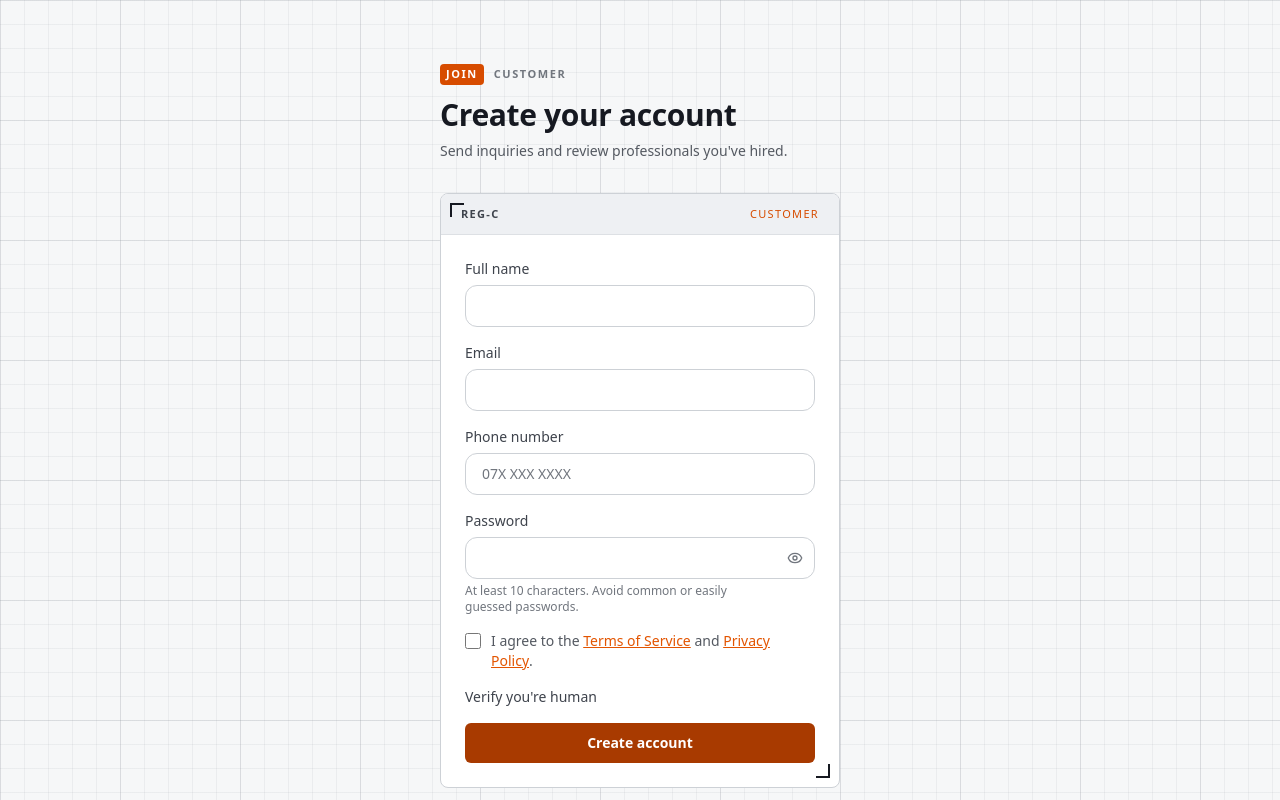
CustomerRegisterForm › blocks submit until the challenge is solved when a site key is set
The width and height of the screenshot is (1280, 800).
Type "Kasun Silva" into the field labelled "Full name" at (640, 306), box [465,285,815,327]
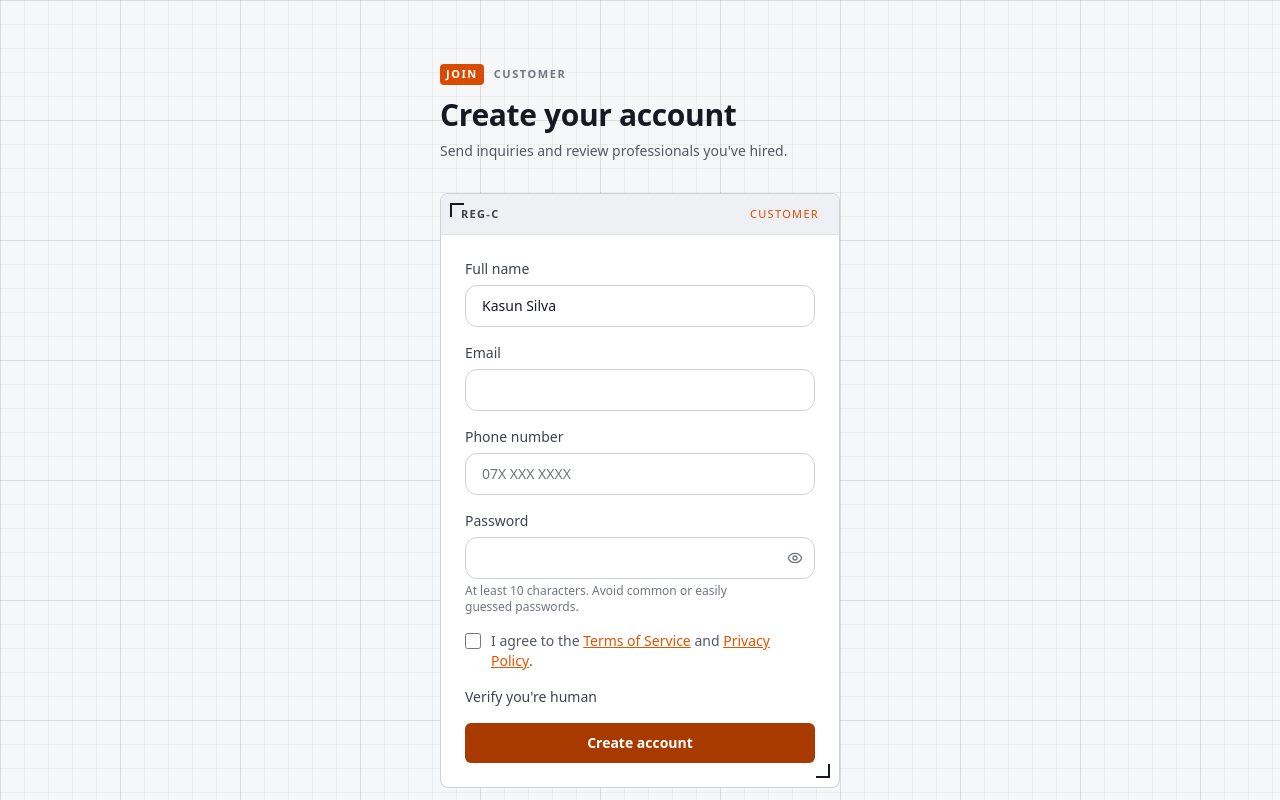
Type "kasun@example.com" into the field labelled "Email" at (640, 390), box [465,369,815,411]
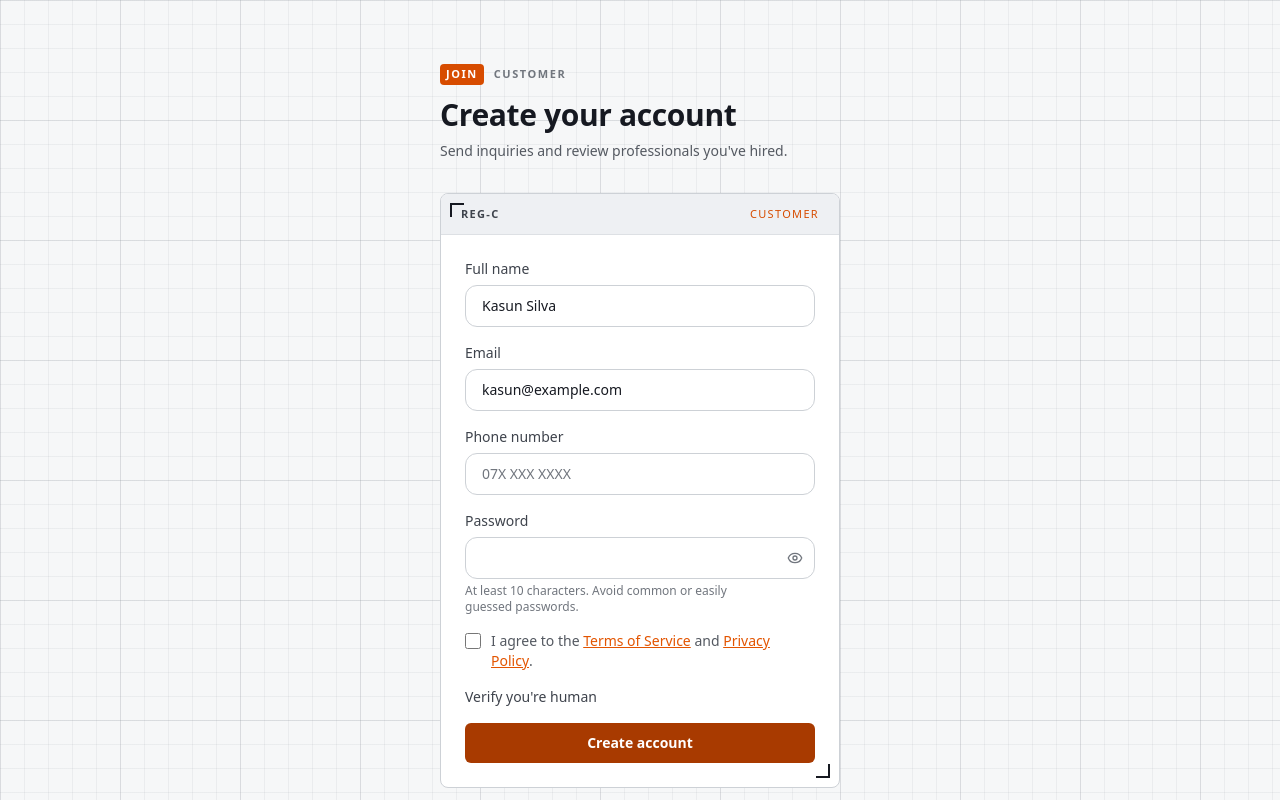
Type "0771234567" into the field labelled "Phone number" at (640, 474), box [465,453,815,495]
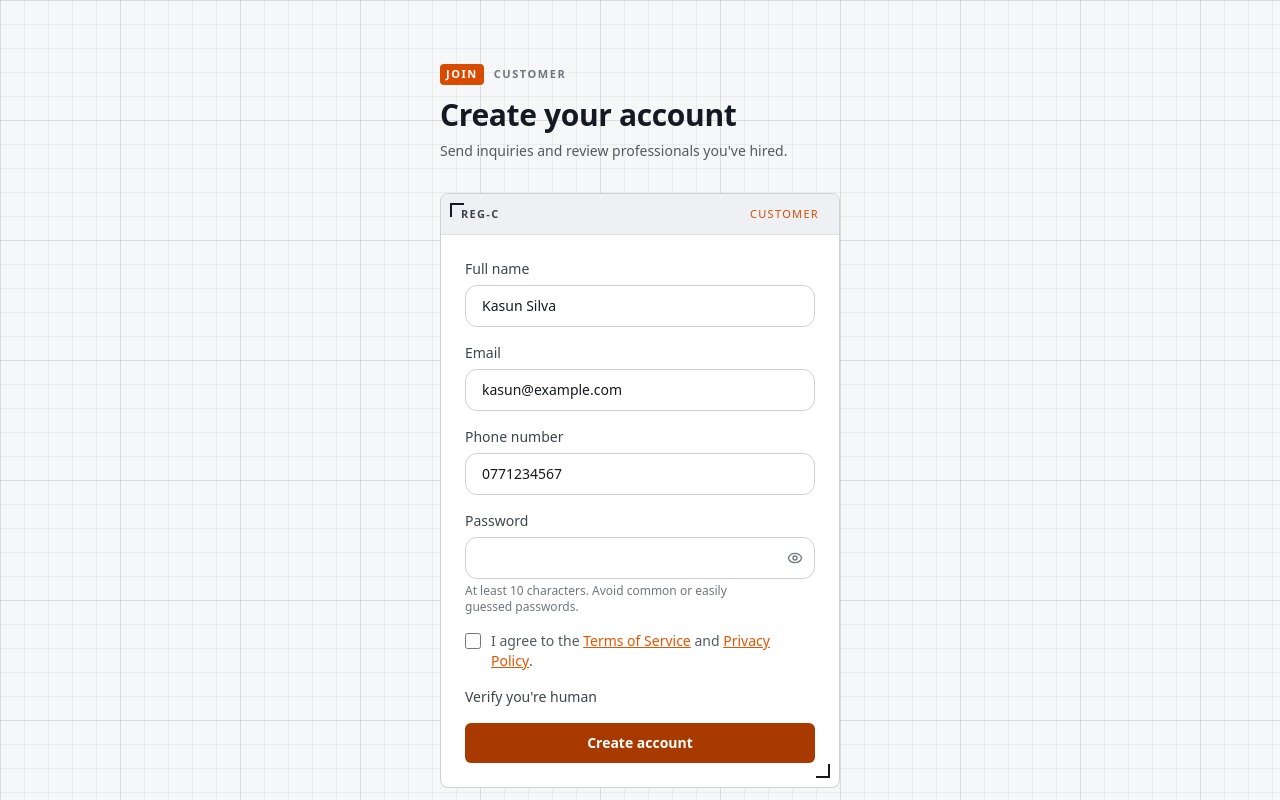
Type "password123" into the password field labelled "Password" at (640, 558), box [465,537,815,579]
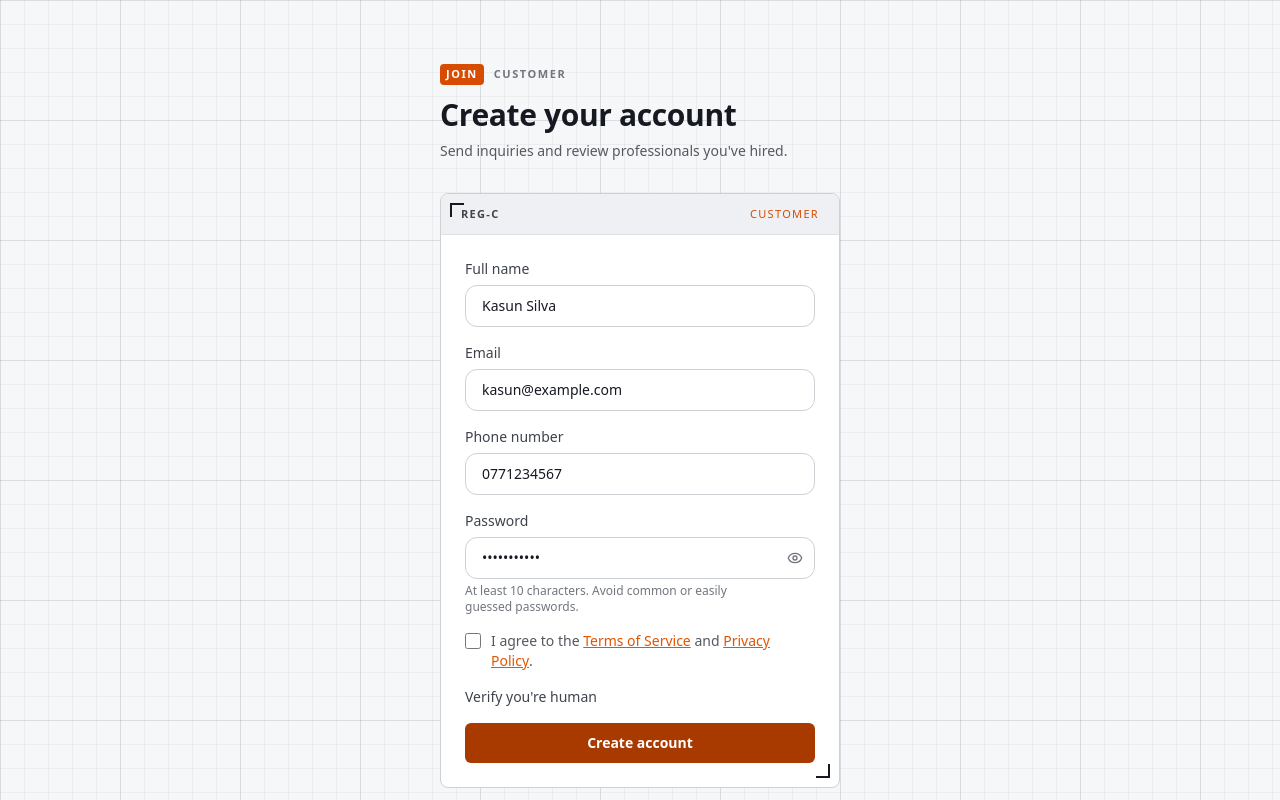
Click the checkbox at (473, 641), box [465,633,481,649]
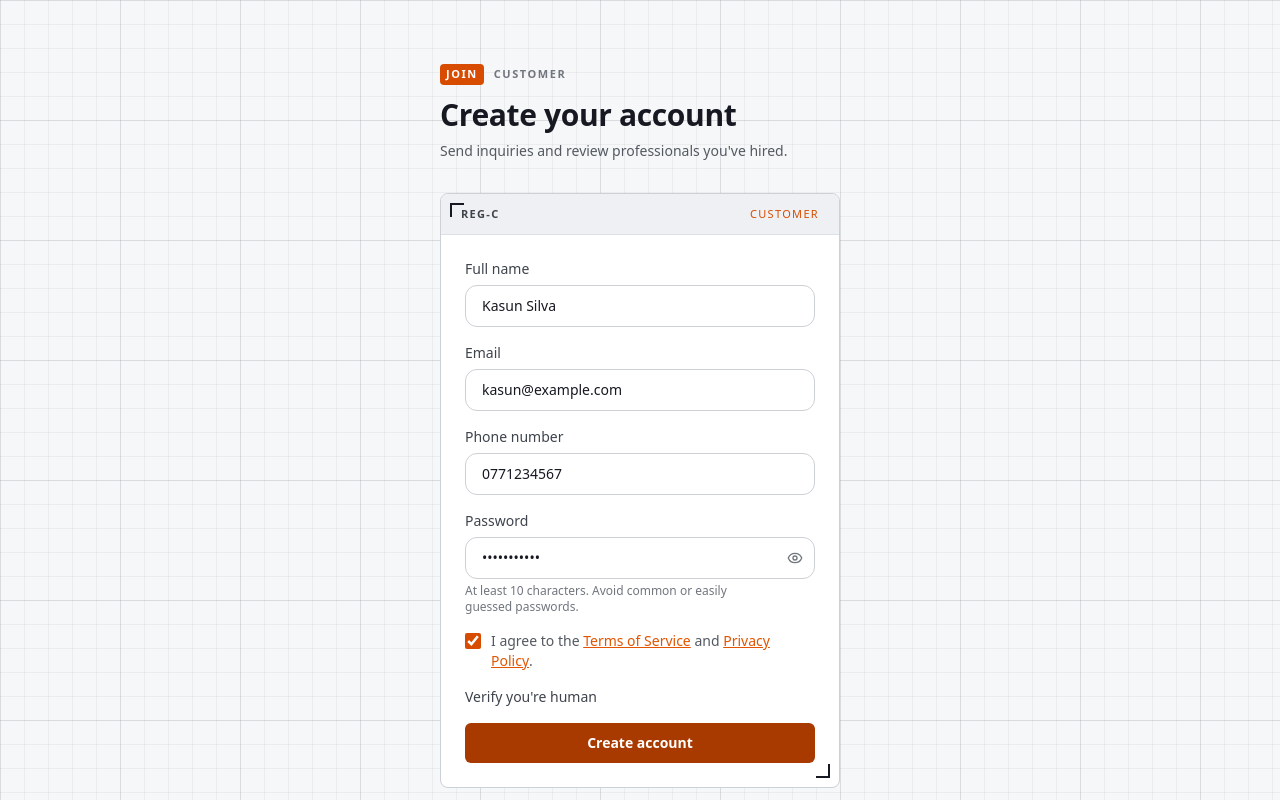
Submit the form, box [441,235,839,787]
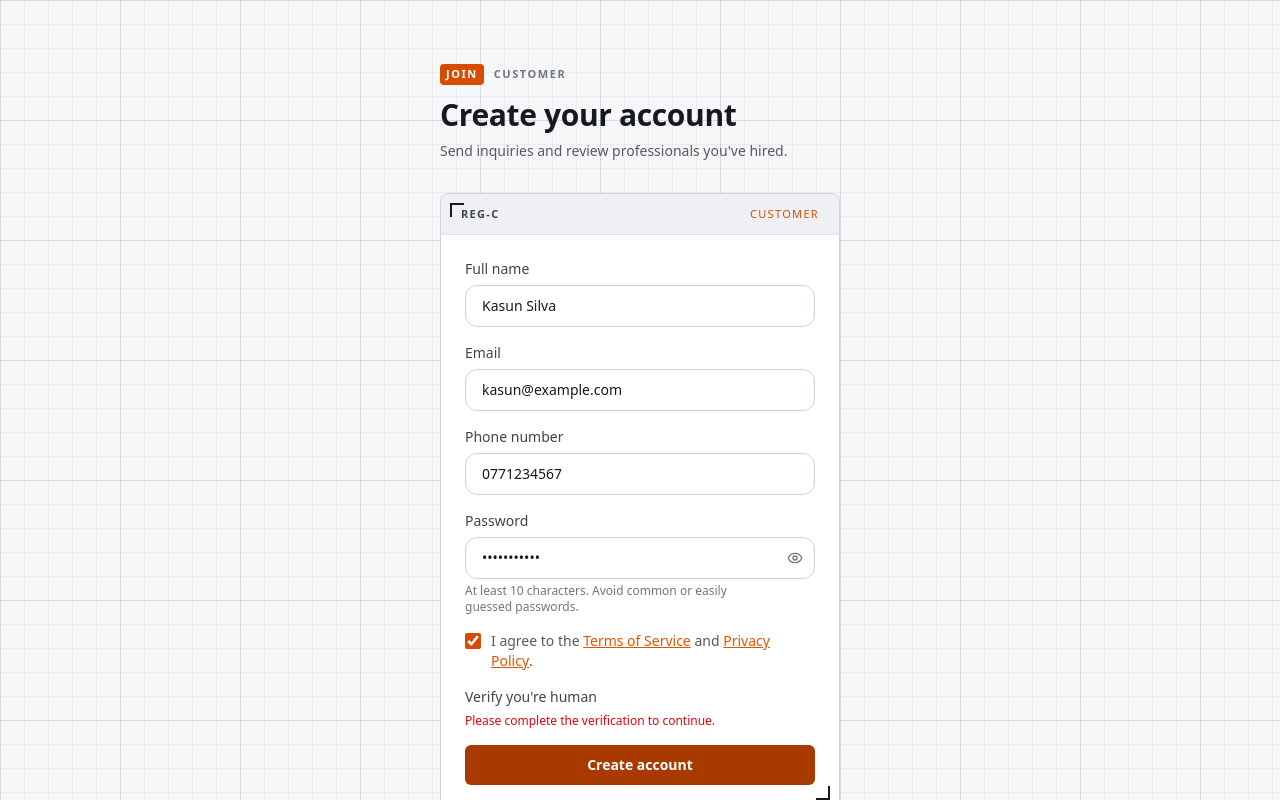
Now the text "Please complete the verification to continue." is shown, box [465,712,715,729]
